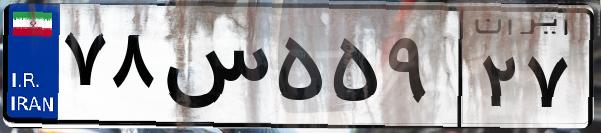2: (475, 38, 525, 113)
5: (270, 28, 330, 110), (330, 28, 385, 110)
7: (57, 26, 110, 100), (525, 38, 570, 115)
8: (110, 28, 158, 98)
9: (385, 28, 445, 110)
س: (158, 20, 270, 120)
